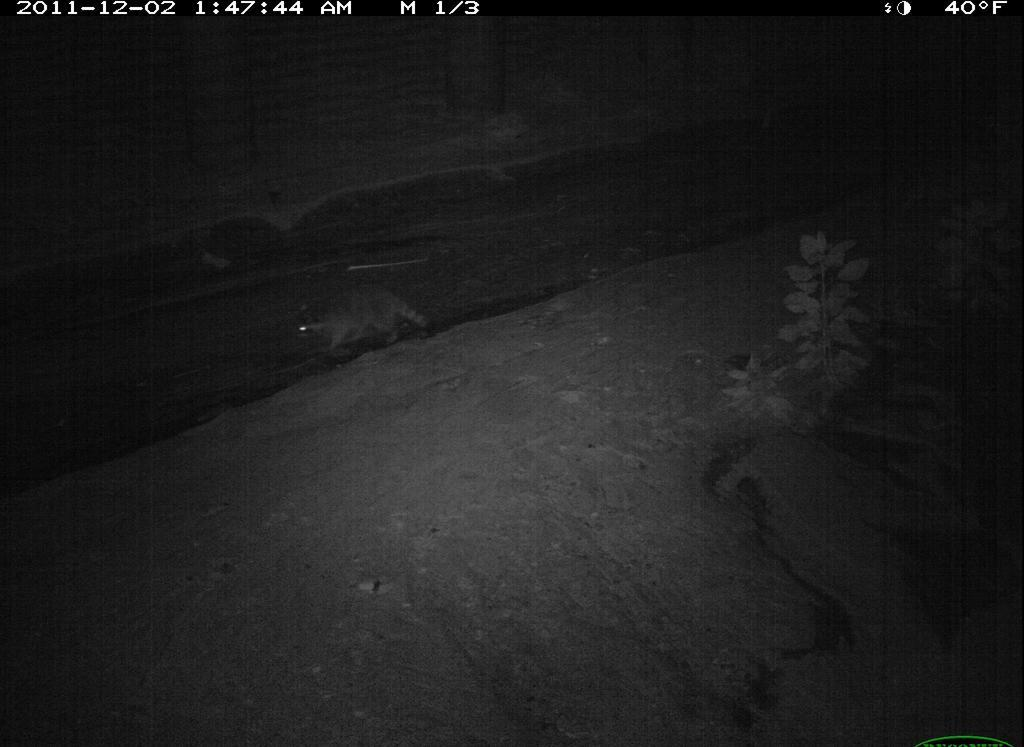raccoon: (286, 285, 433, 361)
